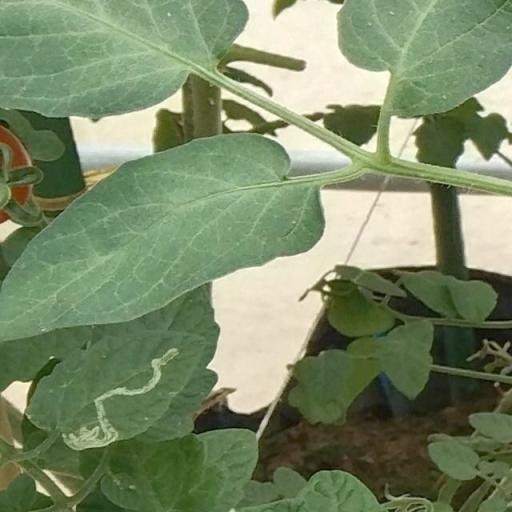Healthy: (0, 128, 329, 352)
Leaf Miner: (24, 324, 210, 454)
